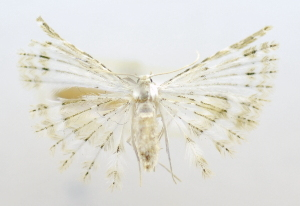Alucitidae: (15, 15, 283, 190)
moth: (15, 16, 283, 191)
